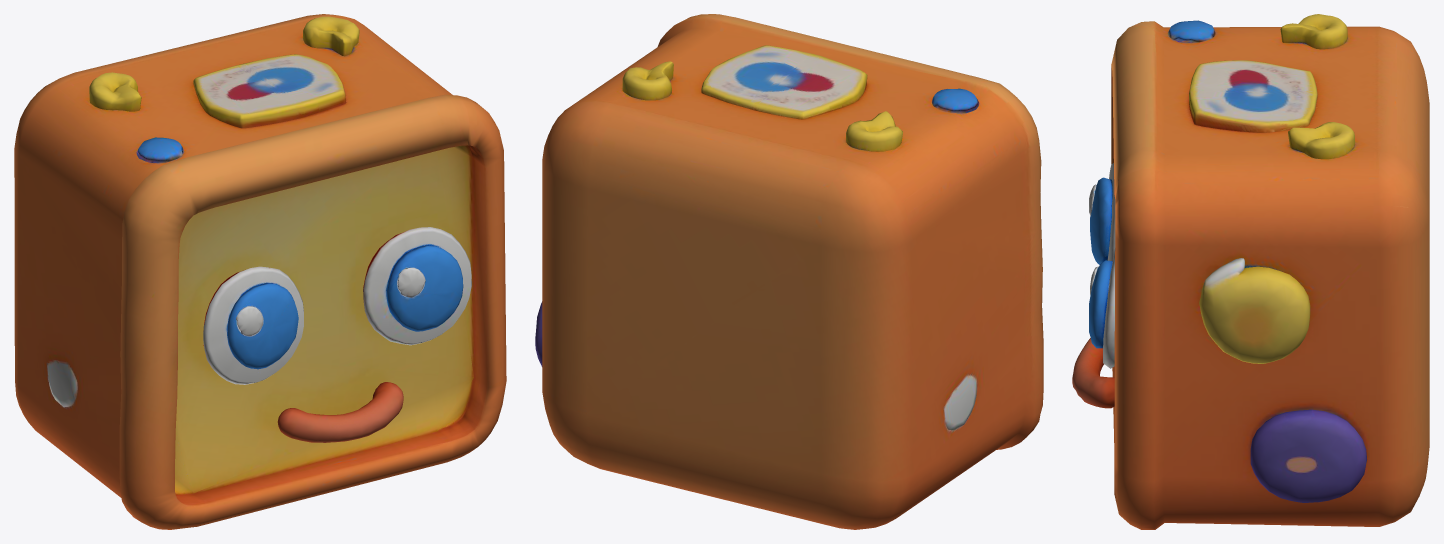
File: Cute Stylized Cardbox.glb
3 renders of one model, left to right at view 1: azimuth 30°, elevation 25°; view 2: azimuth 150°, elevation 25°; view 3: azimuth 270°, elevation 25°, orthographic.
Parts seen in each view (by area): view 1: pb_node; view 2: pb_node; view 3: pb_node.
Boxes of the visible parts, x1,y1,x2,y2 form: pb_node: (14,14,506,529); pb_node: (535,14,1043,529); pb_node: (1072,14,1429,529).
Bounding box in the file's own units: 0.998 × 0.8887 × 0.748.
1 material, 1 textured.
